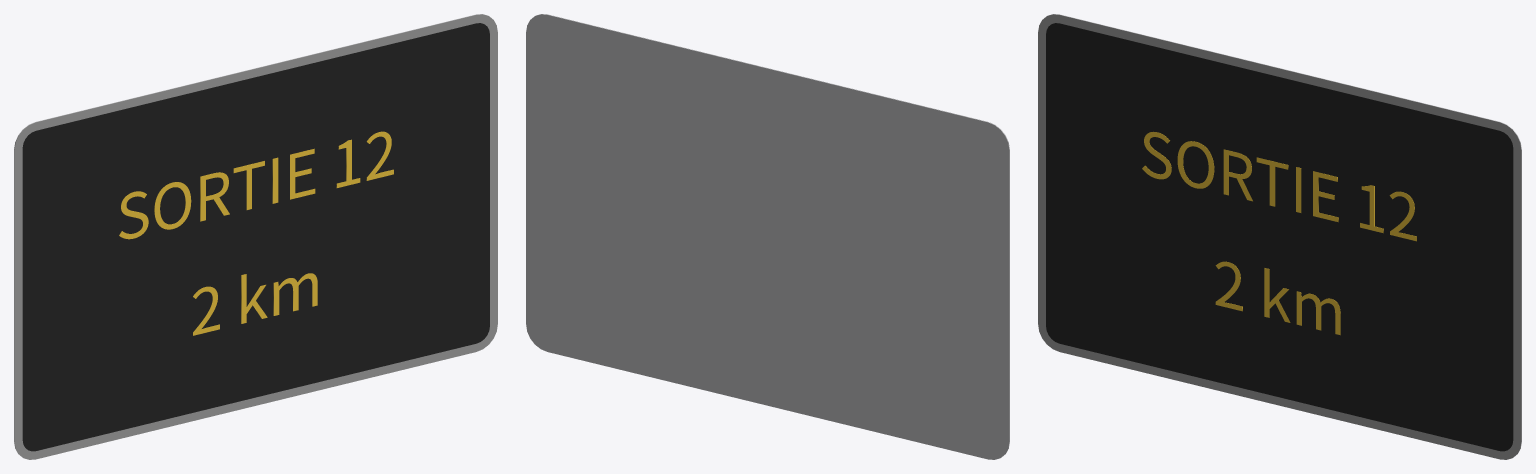
The picture shows the model from 3 angles, left to right: view 1: azimuth 30°, elevation 25°; view 2: azimuth 150°, elevation 25°; view 3: azimuth 330°, elevation 25°; orthographic projection.
Visible parts, largest first — view 1: X1_r01, X1_r00, X1_txt02, X1_txt03, X1_dos; view 2: X1_dos, X1_r00; view 3: X1_r01, X1_r00, X1_txt02, X1_txt03, X1_dos.
Part boxes in pixels (x1=…): X1_r01: x1=22, y1=23, x2=489, y2=451; X1_r00: x1=14, y1=14, x2=497, y2=459; X1_txt02: x1=119, y1=131, x2=393, y2=239; X1_txt03: x1=193, y1=273, x2=317, y2=335; X1_dos: x1=14, y1=14, x2=487, y2=452; X1_dos: x1=526, y1=14, x2=1009, y2=459; X1_r00: x1=542, y1=14, x2=1009, y2=448; X1_r01: x1=1046, y1=23, x2=1513, y2=451; X1_r00: x1=1038, y1=14, x2=1521, y2=459; X1_txt02: x1=1142, y1=132, x2=1416, y2=241; X1_txt03: x1=1215, y1=261, x2=1340, y2=335; X1_dos: x1=1048, y1=14, x2=1521, y2=452.
Bounding box in the file's own units: 0.9 × 0.6 × 0.0029.
